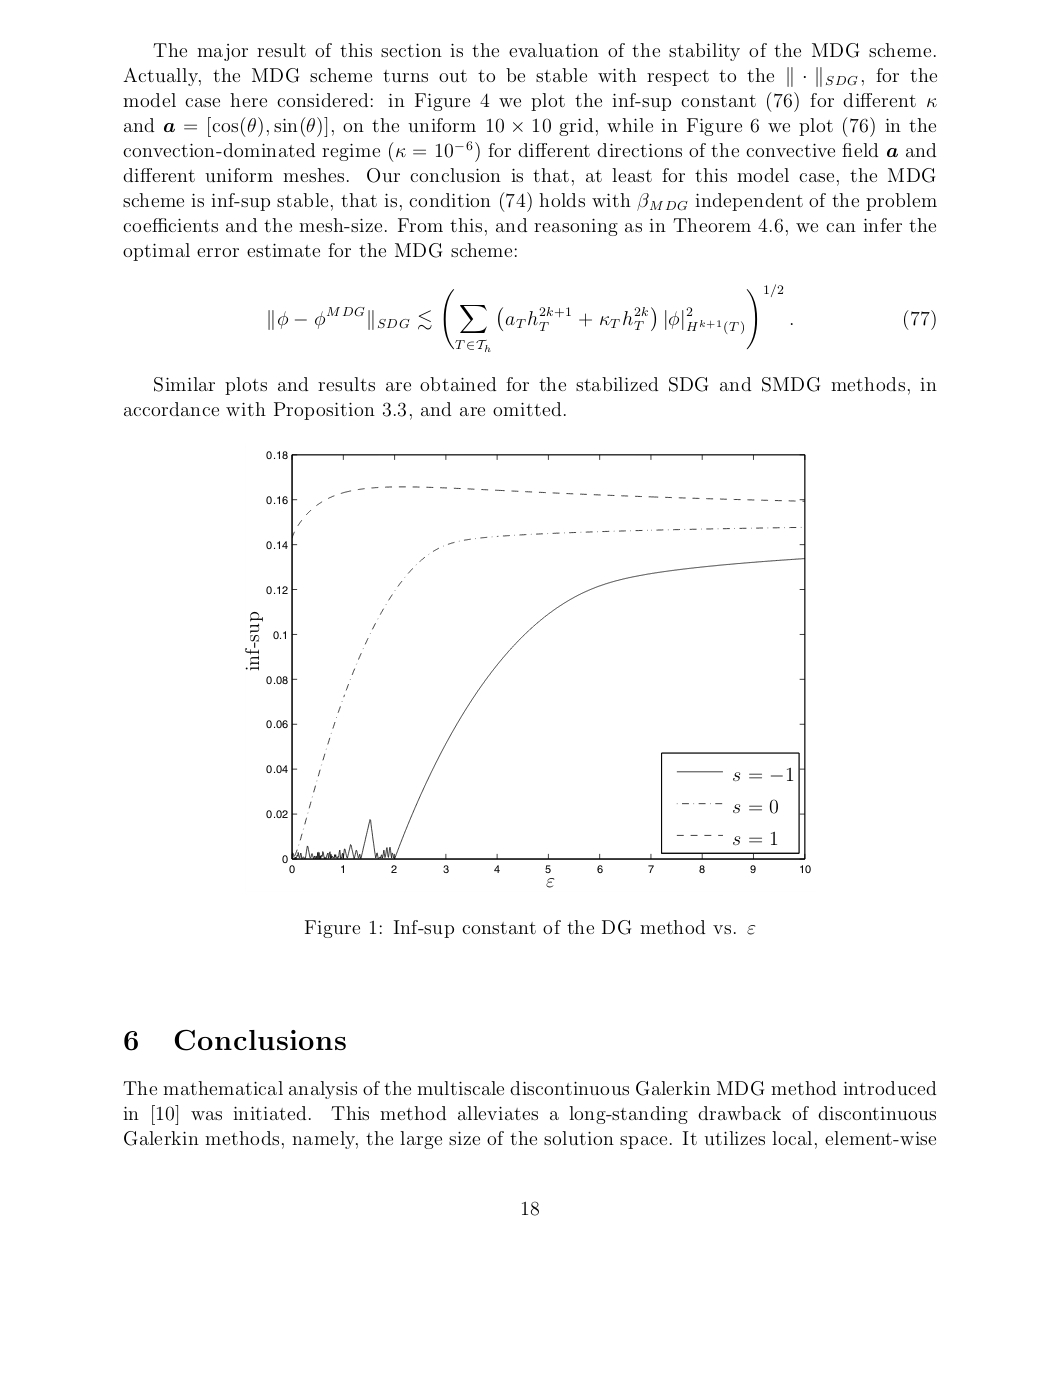figure: (245, 450, 810, 874)
formula: (267, 283, 935, 352)
